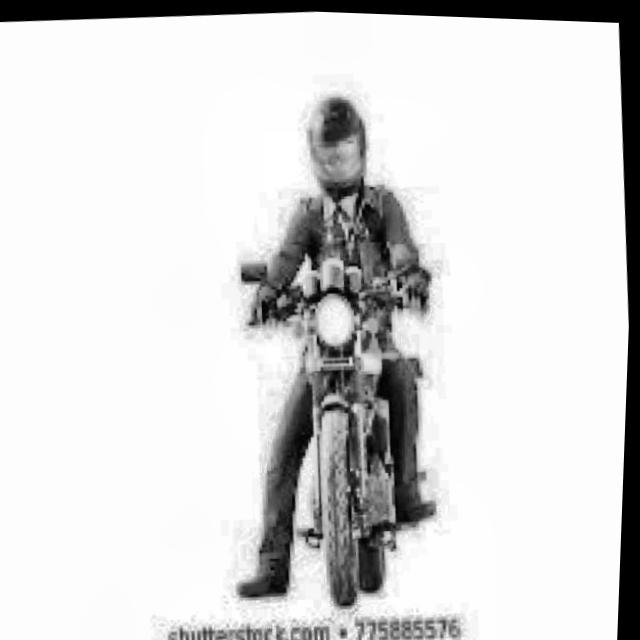motorcycle: (171, 224, 470, 615)
